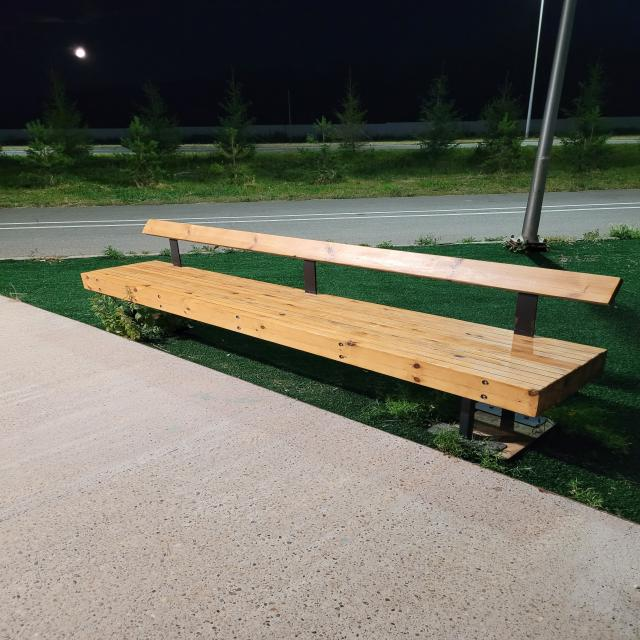Bench: (80, 218, 624, 439)
